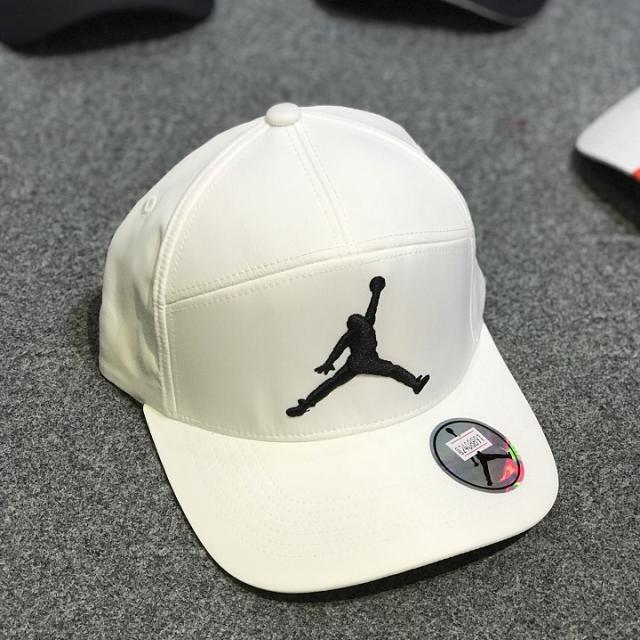no_helmet: (79, 95, 570, 605)
